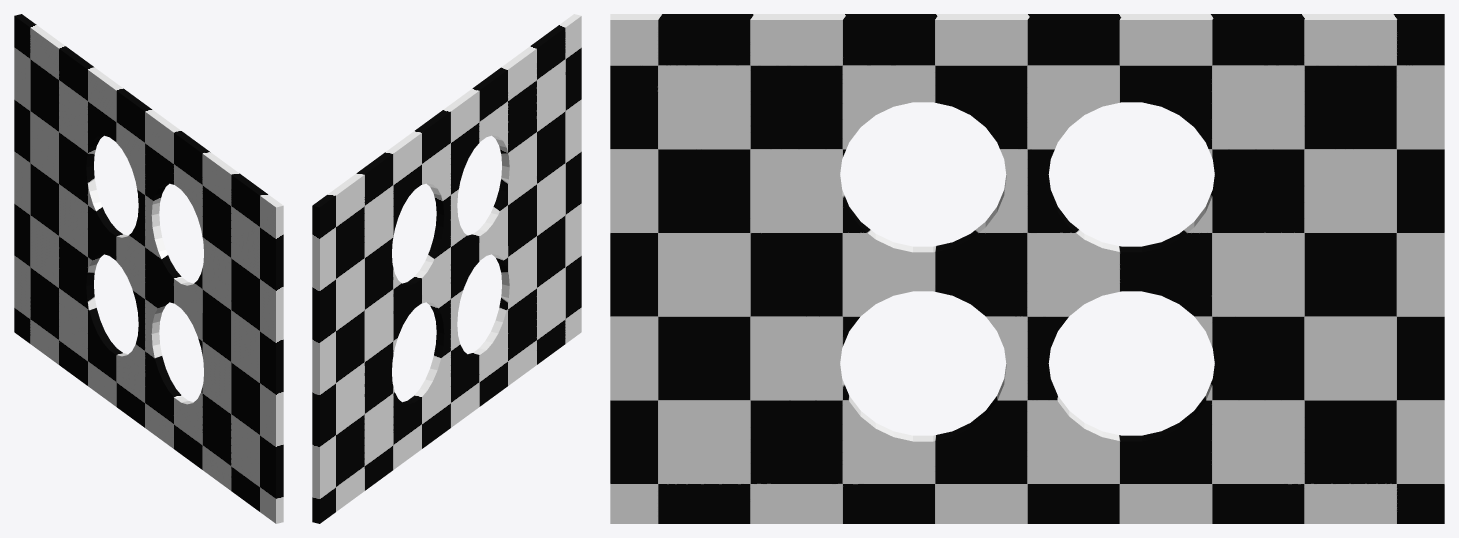
The model's file is chess_pattern.dae.
3 views of the same model, side by side, from view 1: azimuth 30°, elevation 25°; view 2: azimuth 150°, elevation 25°; view 3: azimuth 270°, elevation 25° (orthographic). The views are drawn at different scales.
Parts seen in each view (by area): view 1: node0; view 2: node0; view 3: node0.
Part boxes in pixels (x1,y1,x2,y2): node0: (14, 14, 283, 523); node0: (312, 14, 581, 523); node0: (610, 14, 1444, 523).
Bounding box in the file's own units: 0.02 × 1.2 × 0.8.
